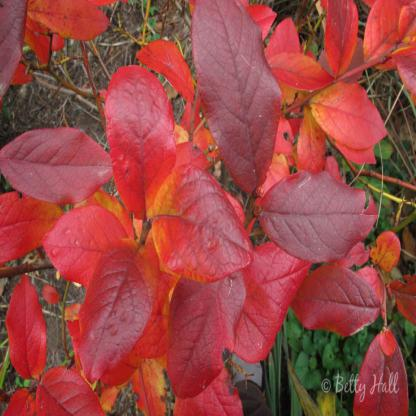blueberry leaf: (189, 1, 283, 213), (146, 164, 258, 287), (258, 165, 384, 272), (61, 254, 159, 391), (103, 57, 179, 232), (163, 266, 252, 403), (1, 122, 117, 220), (292, 252, 379, 351), (45, 208, 141, 283), (346, 316, 410, 415), (308, 80, 391, 152), (131, 32, 199, 105), (271, 49, 336, 100), (322, 1, 361, 80)
